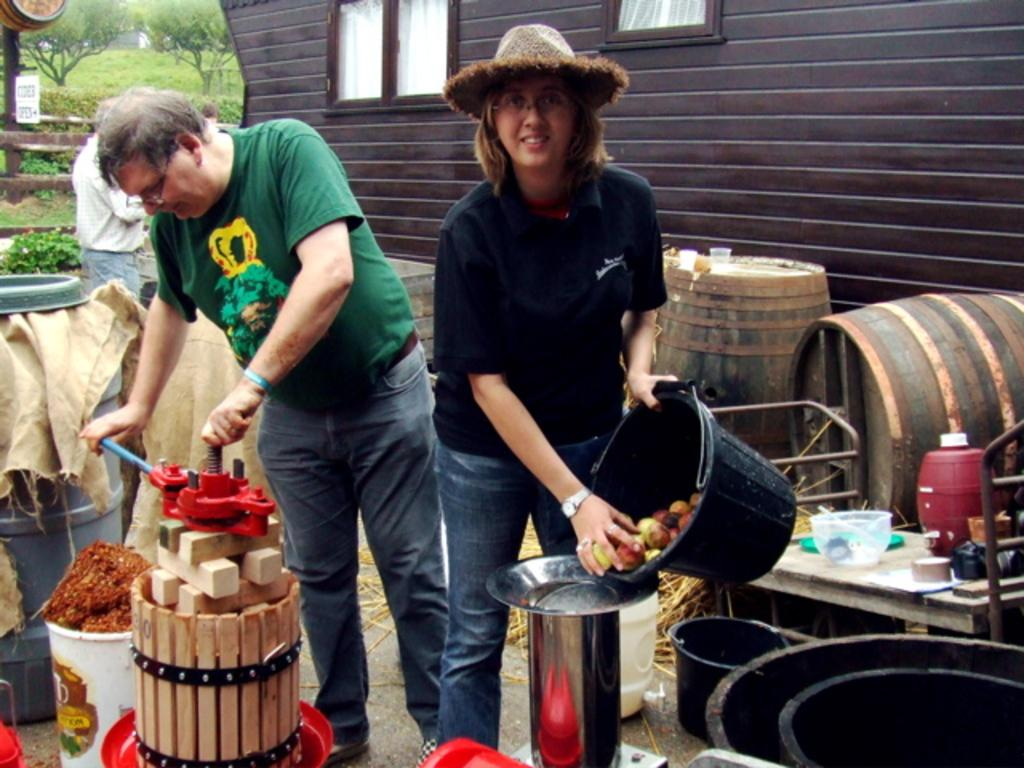Hat: (442, 24, 632, 124)
